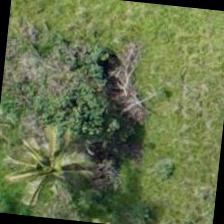Kelapa_Sawit: (5, 120, 104, 219)
